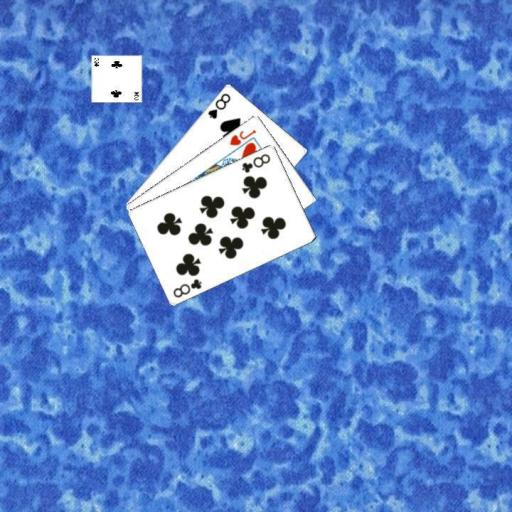card-corner: (204, 90, 232, 120), (238, 150, 272, 174), (170, 275, 203, 299), (226, 126, 258, 146)
